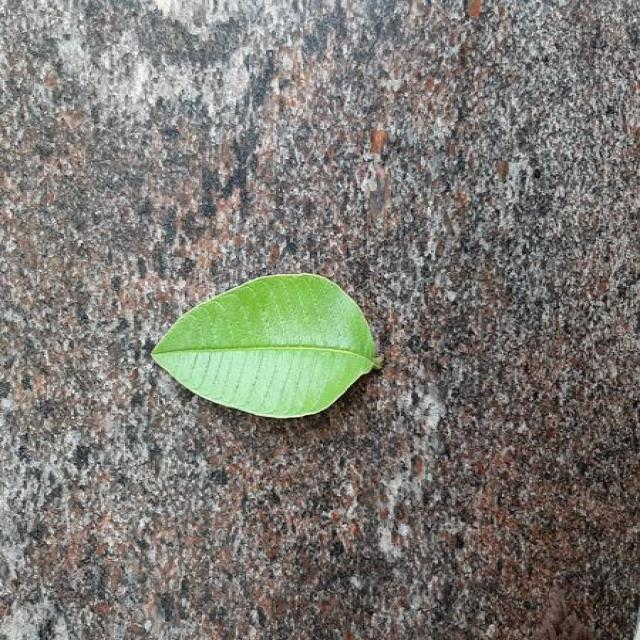leaf: (149, 271, 383, 419)
